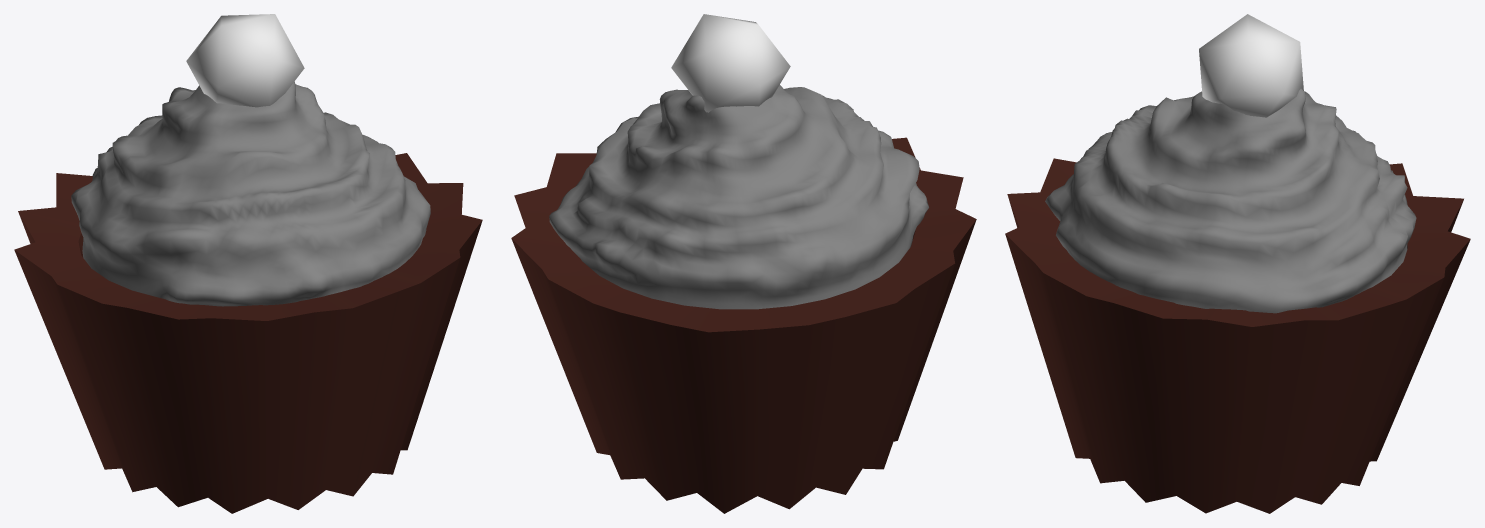
The model's file is cupcake.fbx.
The picture shows the model from 3 angles, left to right: view 1: azimuth 30°, elevation 25°; view 2: azimuth 150°, elevation 25°; view 3: azimuth 270°, elevation 25°; orthographic projection.
Visible parts, largest first — view 1: cupcake dół, cupcake góra, GeoSphere001; view 2: cupcake dół, cupcake góra, GeoSphere001; view 3: cupcake dół, cupcake góra, GeoSphere001.
Boxes of the visible parts, x1,y1,x2,y2 form: cupcake dół: (14,153,482,513); cupcake góra: (71,81,430,306); GeoSphere001: (186,14,304,107); cupcake dół: (511,137,976,513); cupcake góra: (549,85,928,309); GeoSphere001: (671,14,790,112); cupcake dół: (1005,158,1470,513); cupcake góra: (1045,88,1416,313); GeoSphere001: (1199,14,1303,117).
Bounding box in the file's own units: 13.59 × 14.02 × 13.6.
